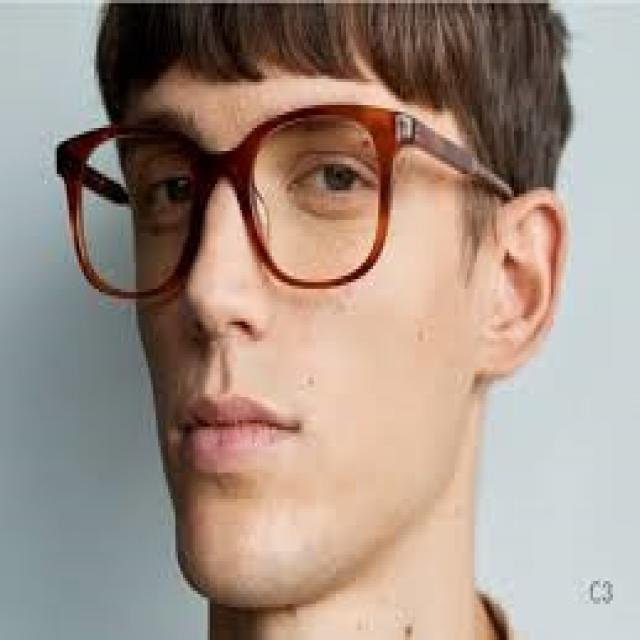Glasses: (44, 85, 544, 312)
